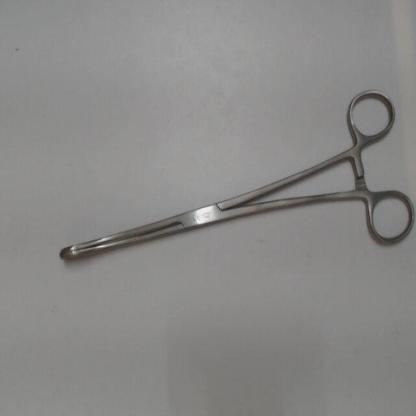Sponge Forceps: (48, 84, 414, 273)
